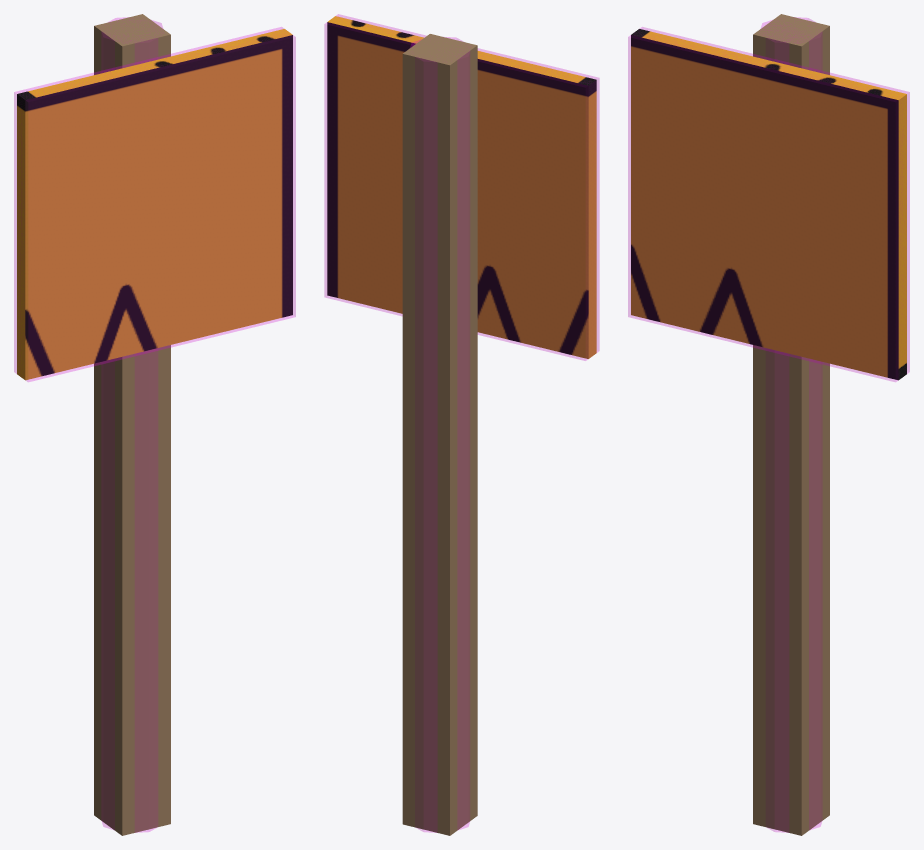
Rendered from arrow_triple_left.dae.
3 views of the same model, side by side, from view 1: azimuth 30°, elevation 25°; view 2: azimuth 150°, elevation 25°; view 3: azimuth 330°, elevation 25° (orthographic). The views are drawn at different scales.
Parts seen in each view (by area): view 1: sign, Colmesh_sign-1, post, Colmesh_post-1; view 2: post, sign, Colmesh_sign-1, Colmesh_post-1; view 3: sign, Colmesh_sign-1, post, Colmesh_post-1.
Part boxes in pixels (box(x1,y1,x2,y2)): sign: box(17, 29, 292, 380); Colmesh_sign-1: box(14, 27, 295, 381); post: box(94, 14, 170, 835); Colmesh_post-1: box(102, 17, 162, 832); post: box(402, 34, 477, 835); sign: box(327, 16, 596, 358); Colmesh_sign-1: box(324, 14, 599, 360); Colmesh_post-1: box(410, 37, 469, 832); sign: box(631, 29, 906, 380); Colmesh_sign-1: box(628, 27, 909, 381); post: box(753, 14, 829, 835); Colmesh_post-1: box(761, 17, 821, 832).
Bounding box in the file's own units: 0.55 × 0.165 × 1.55.
Materials: 3 (1 with a texture image).
